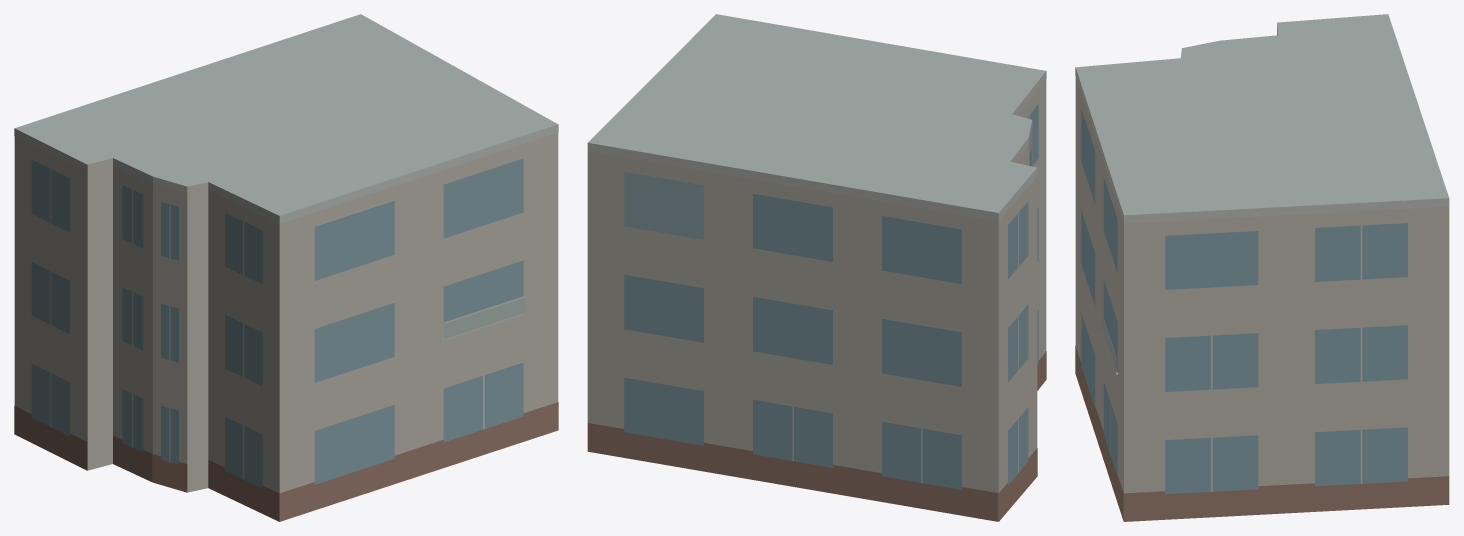
The model's file is survey-upis-32675917.glb.
3 renders of one model, left to right at view 1: azimuth 30°, elevation 25°; view 2: azimuth 150°, elevation 25°; view 3: azimuth 270°, elevation 25°, orthographic.
Visible parts, largest first — view 1: survey-upis-32675917.tmp; view 2: survey-upis-32675917.tmp; view 3: survey-upis-32675917.tmp.
Boxes of the visible parts, x1,y1,x2,y2 form: survey-upis-32675917.tmp: [14, 14, 558, 521]; survey-upis-32675917.tmp: [587, 14, 1046, 521]; survey-upis-32675917.tmp: [1075, 14, 1449, 521].
Size of the model in its own units: 12.83 by 9.1 by 10.07.
